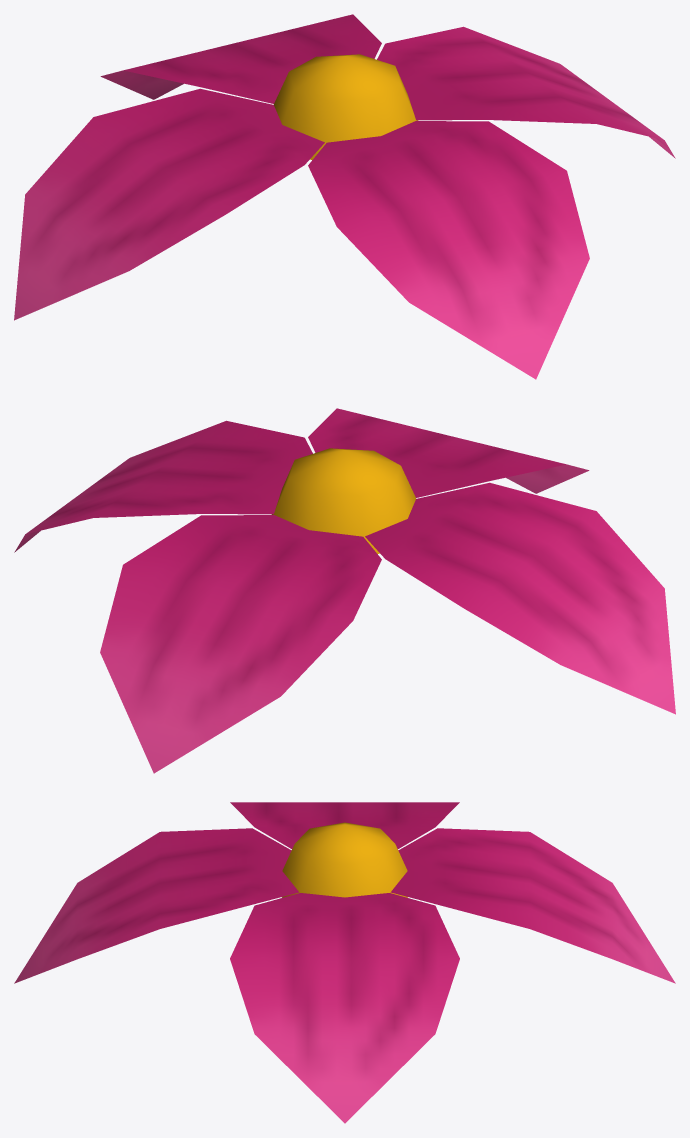
The model's file is FlowerType4.FBX.
3 views of the same model, one above another, from view 1: azimuth 30°, elevation 25°; view 2: azimuth 150°, elevation 25°; view 3: azimuth 270°, elevation 25° (orthographic). The views are drawn at different scales.
Parts seen in each view (by area): view 1: FlowerType4; view 2: FlowerType4; view 3: FlowerType4.
Part boxes in pixels (x1=…): FlowerType4: x1=14, y1=14, x2=675, y2=379; FlowerType4: x1=14, y1=408, x2=675, y2=773; FlowerType4: x1=14, y1=802, x2=675, y2=1123.
Size of the model in its own units: 34.44 by 9.13 by 34.44.
